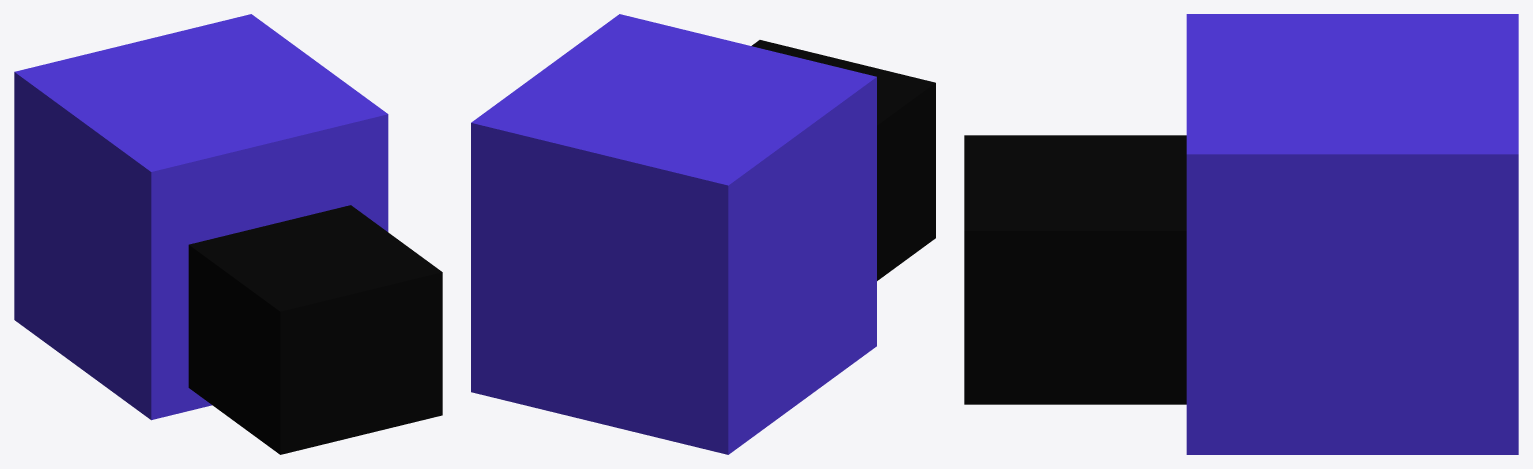
Rendered from miserere.glb.
The picture shows the model from 3 angles, left to right: view 1: azimuth 30°, elevation 25°; view 2: azimuth 150°, elevation 25°; view 3: azimuth 270°, elevation 25°; orthographic projection. The views are drawn at different scales.
Parts seen in each view (by area): view 1: Cube, Cube.001; view 2: Cube, Cube.001; view 3: Cube, Cube.001.
Boxes of the visible parts, left/top/right/bottom form: Cube: left=14, top=14, right=388, bottom=420; Cube.001: left=188, top=205, right=442, bottom=454; Cube: left=471, top=14, right=876, bottom=454; Cube.001: left=751, top=40, right=935, bottom=280; Cube: left=1186, top=14, right=1518, bottom=454; Cube.001: left=964, top=135, right=1186, bottom=404.
Size of the model in its own units: 0.2 by 0.2 by 0.334.
